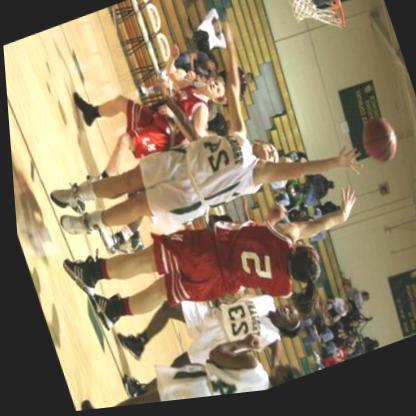basketball: (355, 120, 400, 176)
rim: (315, 0, 352, 38)
